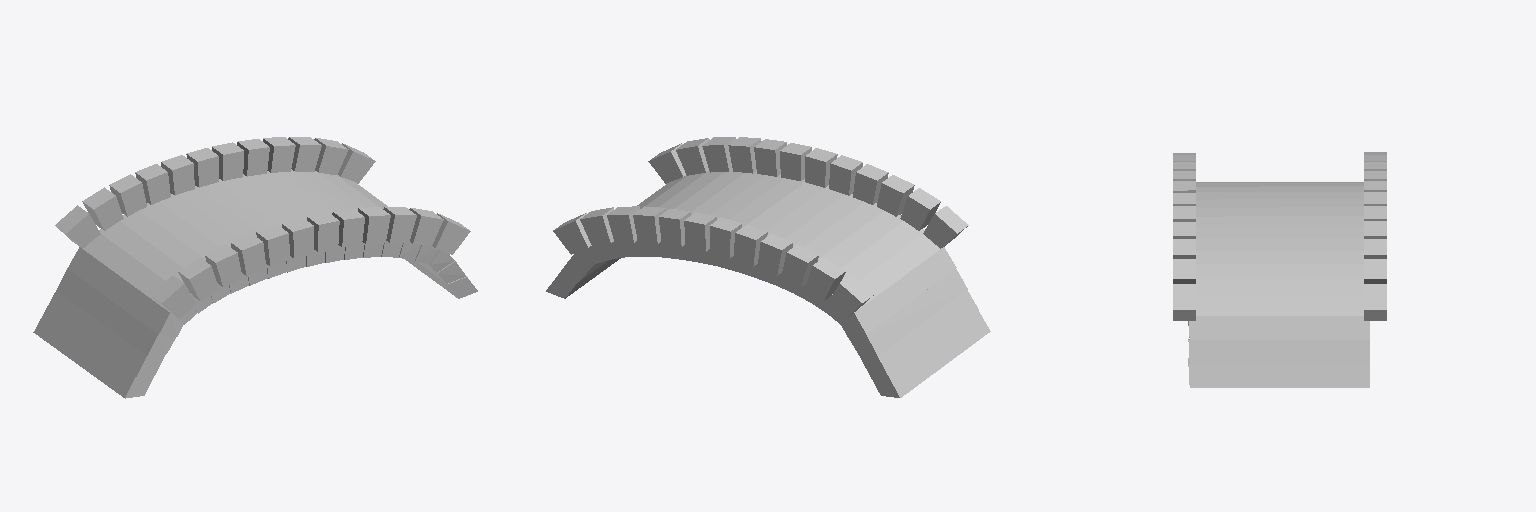
File: Bridge_1.obj
The picture shows the model from 3 angles: view 1: azimuth 30°, elevation 25°; view 2: azimuth 150°, elevation 25°; view 3: azimuth 270°, elevation 25°; orthographic projection.
Visible parts, largest first — view 1: Plane_Plane.001, Cube.000_Cube.001, Cube.001_Cube.000; view 2: Plane_Plane.001, Cube.001_Cube.000, Cube.000_Cube.001; view 3: Plane_Plane.001, Cube.001_Cube.000, Cube.000_Cube.001.
Part boxes in pixels (x1,y1,x2,y2): Plane_Plane.001: (33,169,477,398); Cube.000_Cube.001: (151,207,470,318); Cube.001_Cube.000: (55,137,375,248); Plane_Plane.001: (546,170,990,397); Cube.001_Cube.000: (553,206,873,318); Cube.000_Cube.001: (648,137,968,248); Plane_Plane.001: (1188,182,1369,387); Cube.001_Cube.000: (1364,152,1386,320); Cube.000_Cube.001: (1173,153,1195,320).
Bounding box in the file's own units: 35.87 × 13.17 × 18.69.